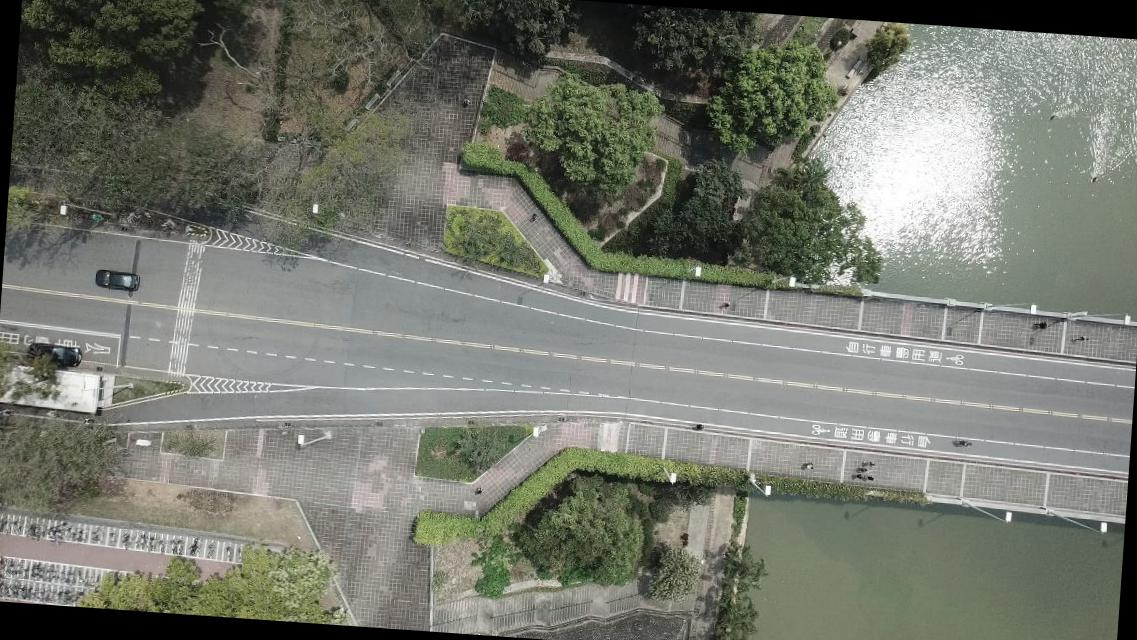vehicle: (25, 340, 82, 367), (93, 267, 139, 292)
